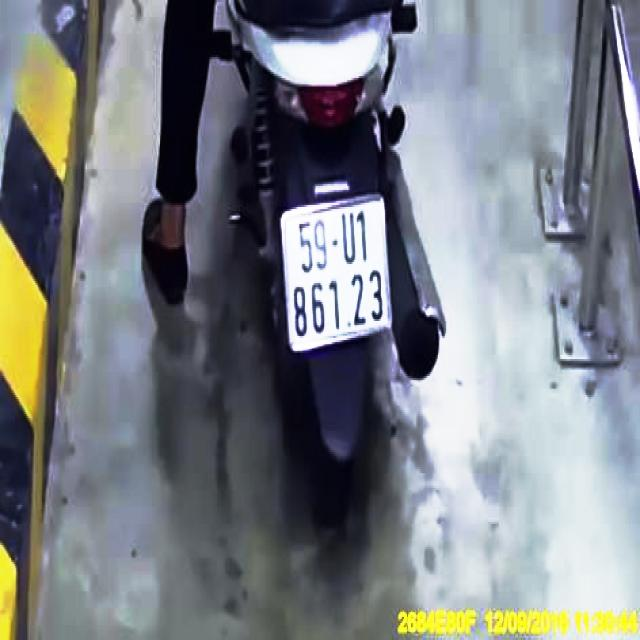license_plate: (280, 196, 393, 350)
